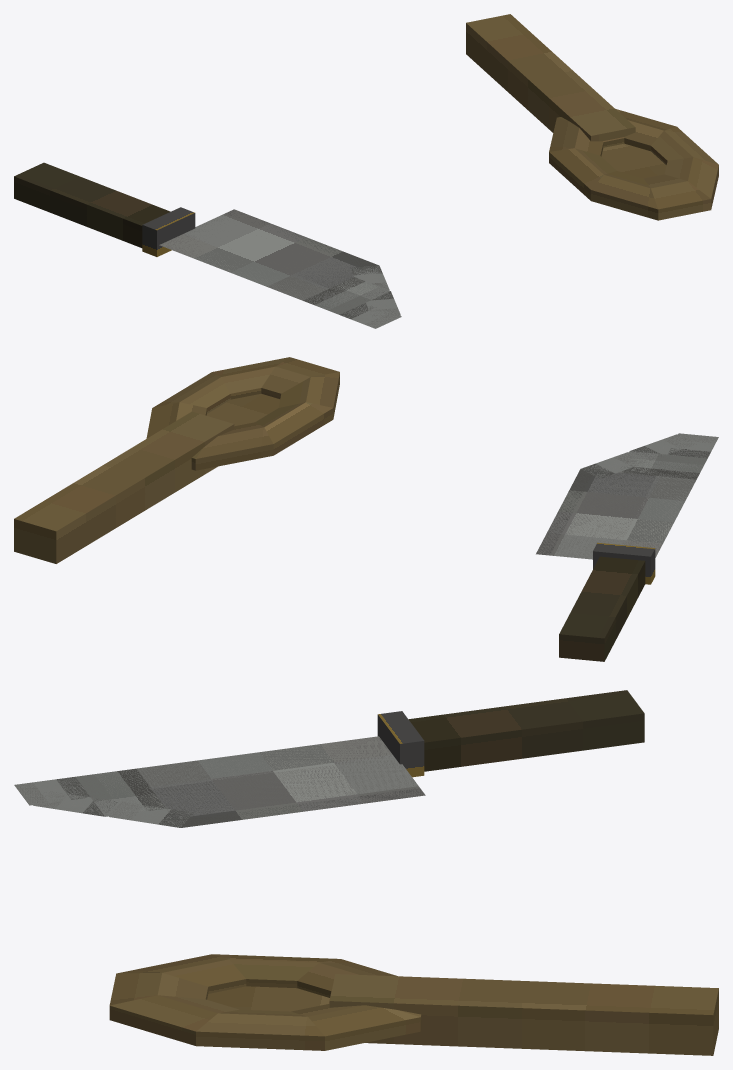
Rendered from cutleryr_2.obj.
3 views of the same model, one above another, from view 1: azimuth 30°, elevation 25°; view 2: azimuth 150°, elevation 25°; view 3: azimuth 270°, elevation 25° (orthographic). The views are drawn at different scales.
Visible parts, largest first — view 1: cube, torus; view 2: cube, torus; view 3: cube, torus.
Boxes of the visible parts, <box> form: cube: <box>14,14,666,328</box>; torus: <box>549,109,718,220</box>; cube: <box>14,393,718,661</box>; torus: <box>146,357,339,470</box>; cube: <box>14,690,718,1055</box>; torus: <box>109,954,421,1050</box>.
Size of the model in its own units: 0.8012 by 0.0437 by 0.6863.
